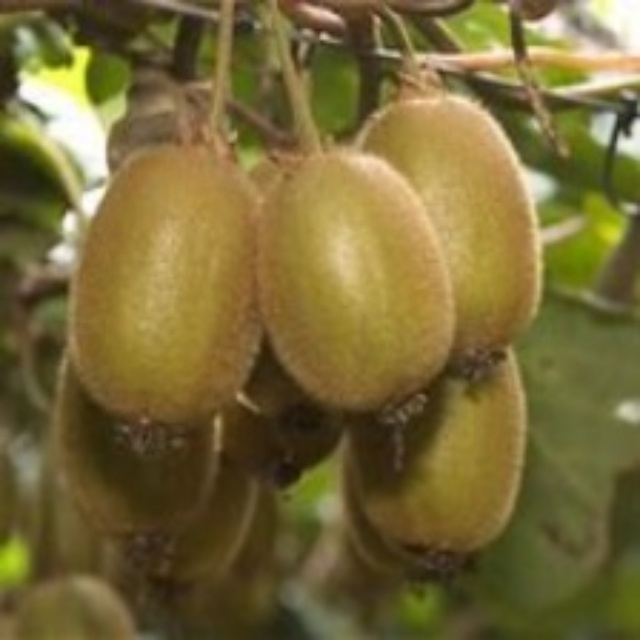kiwi: (70, 148, 281, 449), (256, 151, 451, 433), (359, 95, 550, 355), (47, 382, 273, 596), (360, 375, 528, 582)
